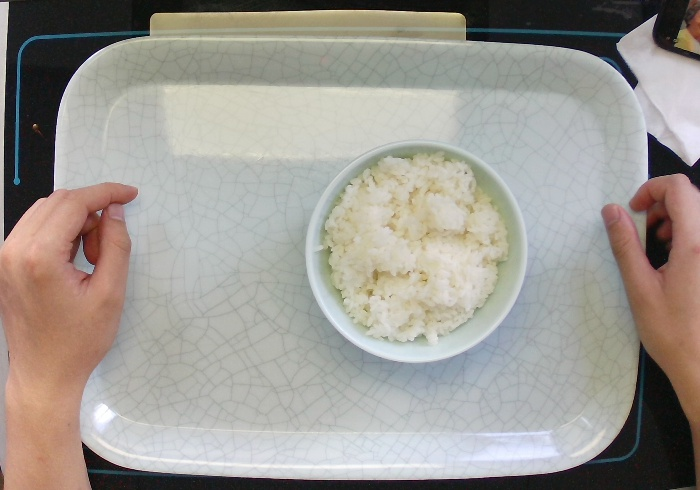JYsf-Fan_Wan: (295, 136, 538, 373)
